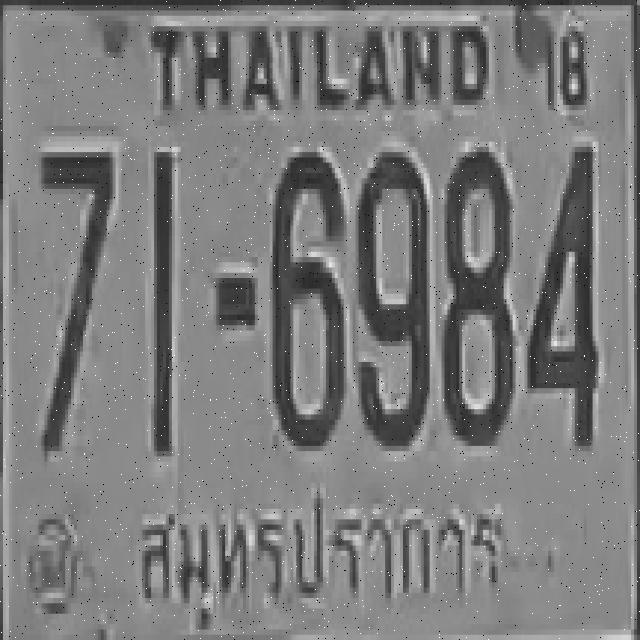1: (152, 147, 172, 451)
4: (526, 142, 597, 446)
6: (270, 147, 344, 446)
7: (37, 147, 111, 451)
8: (442, 144, 512, 438)
9: (356, 144, 426, 443)
SamutPrakan: (117, 479, 520, 640)
